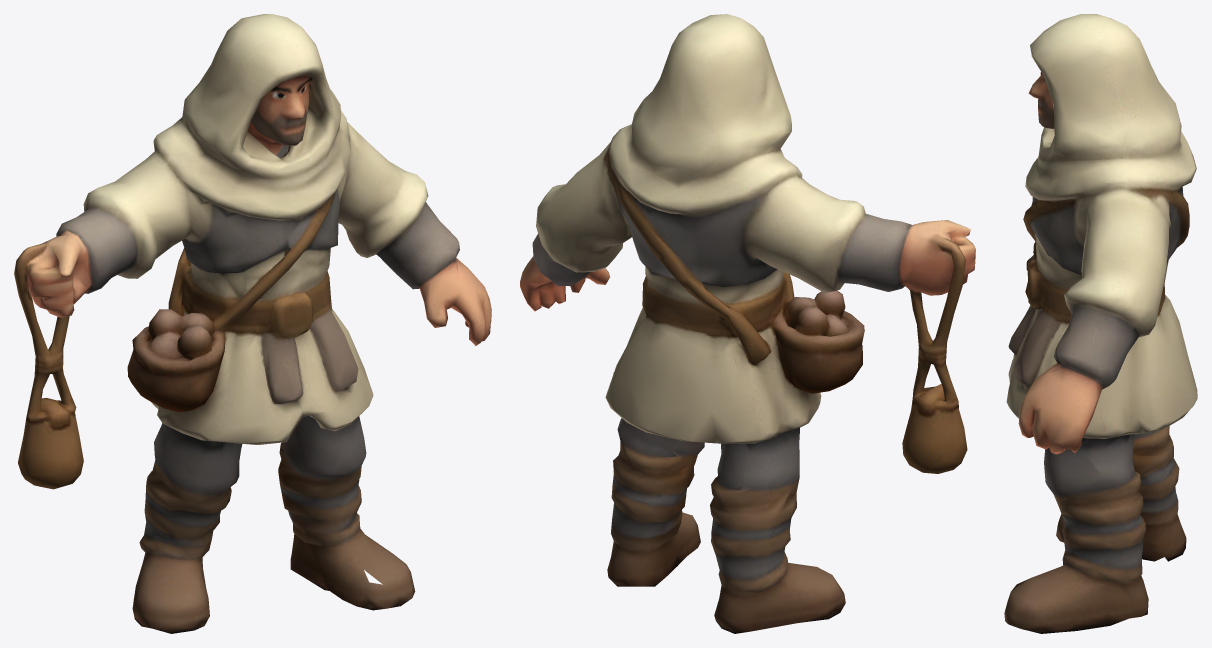
File: hill_slingers_ready.glb
The picture shows the model from 3 angles, left to right: view 1: azimuth 30°, elevation 25°; view 2: azimuth 150°, elevation 25°; view 3: azimuth 270°, elevation 25°; orthographic projection. The views are drawn at different scales.
Visible parts, largest first — view 1: world; view 2: world; view 3: world.
Boxes of the visible parts, x1=… form: world: x1=14, y1=14, x2=491, y2=633; world: x1=520, y1=14, x2=975, y2=633; world: x1=1004, y1=14, x2=1197, y2=633.
Size of the model in its own units: 0.8398 by 1 by 0.3126.
Materials: 1 (1 with a texture image).
